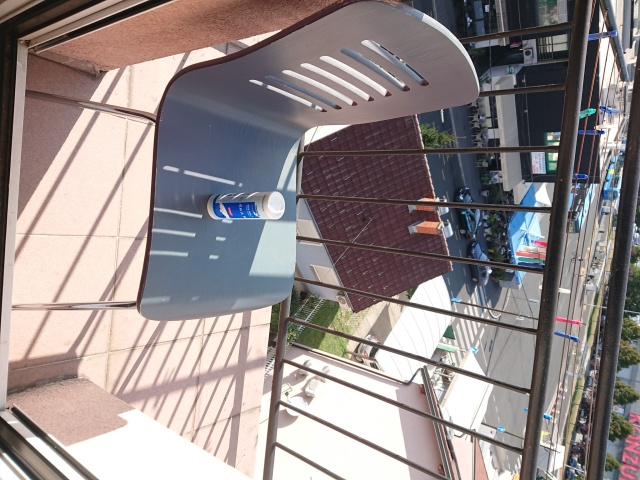Solana Pag Fine Sea Salt 250g: (205, 189, 287, 222)
